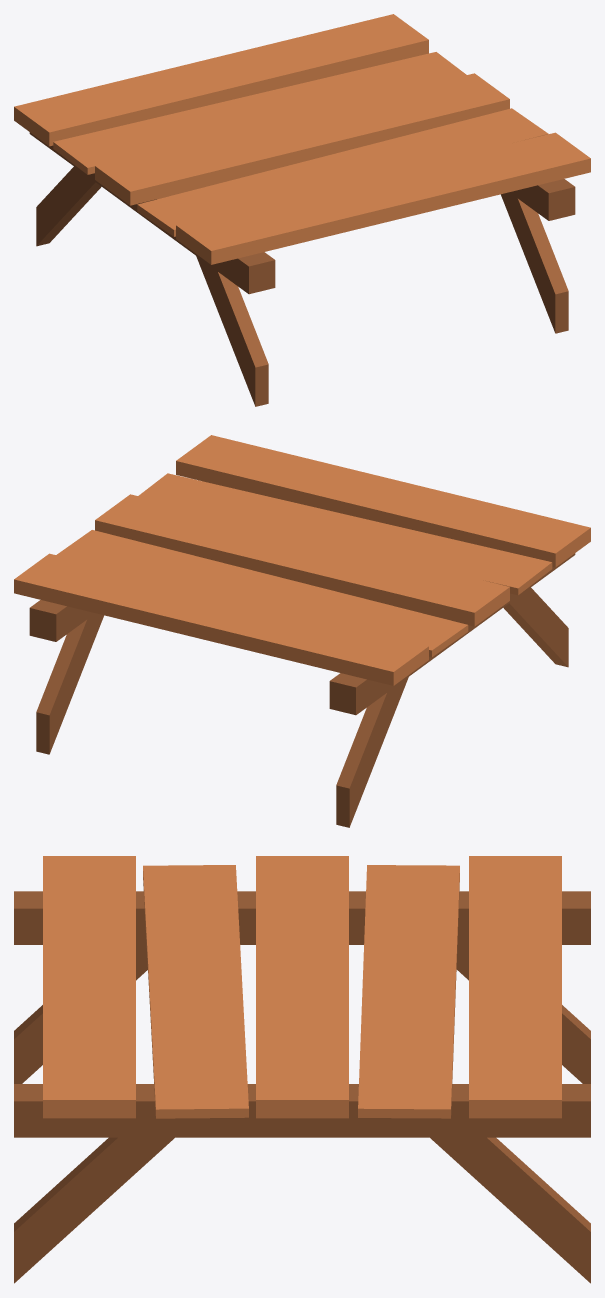
The model's file is bridge.fbx.
3 renders of one model, top to bottom at view 1: azimuth 30°, elevation 25°; view 2: azimuth 150°, elevation 25°; view 3: azimuth 270°, elevation 25°, orthographic. The views are drawn at different scales.
Parts seen in each view (by area): view 1: bridge; view 2: bridge; view 3: bridge.
Part boxes in pixels (x1,y1,x2,y2): bridge: (14, 14, 590, 406); bridge: (14, 435, 590, 827); bridge: (14, 856, 590, 1283).
Size of the model in its own units: 10.03 by 3.92 by 10.
